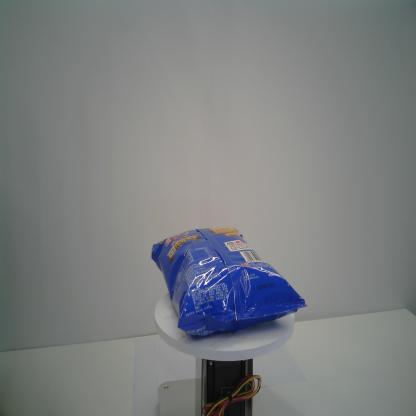Puffed Food: (151, 225, 308, 338)
